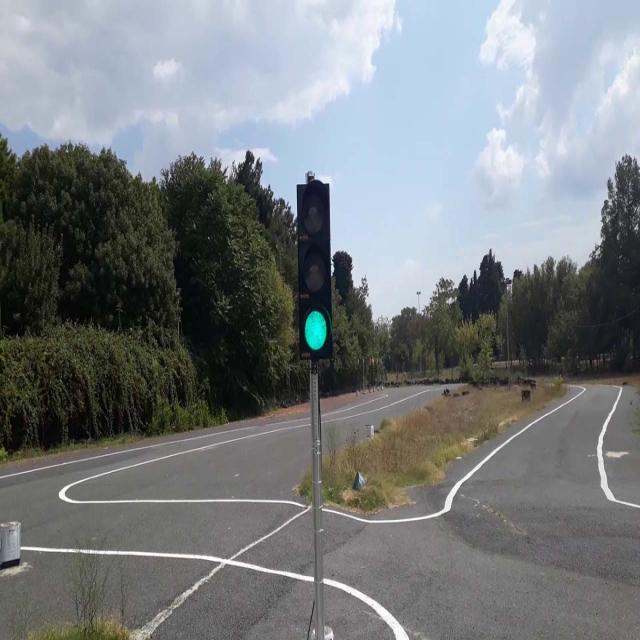yesil: (297, 182, 333, 358)
